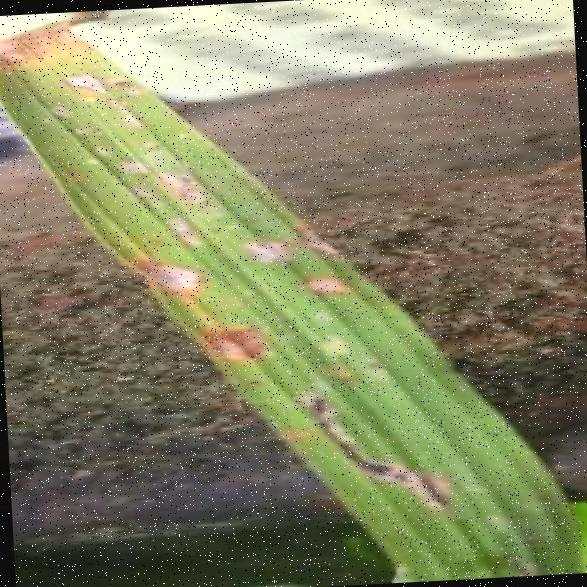Leaf_smut: (277, 364, 476, 522), (214, 200, 364, 278), (122, 229, 218, 316), (188, 298, 280, 363), (274, 257, 351, 310), (48, 48, 113, 106), (151, 189, 207, 250), (116, 174, 174, 218), (106, 142, 154, 183), (102, 92, 150, 128)
